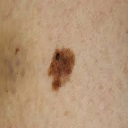Melanoma: (44, 47, 74, 91)
